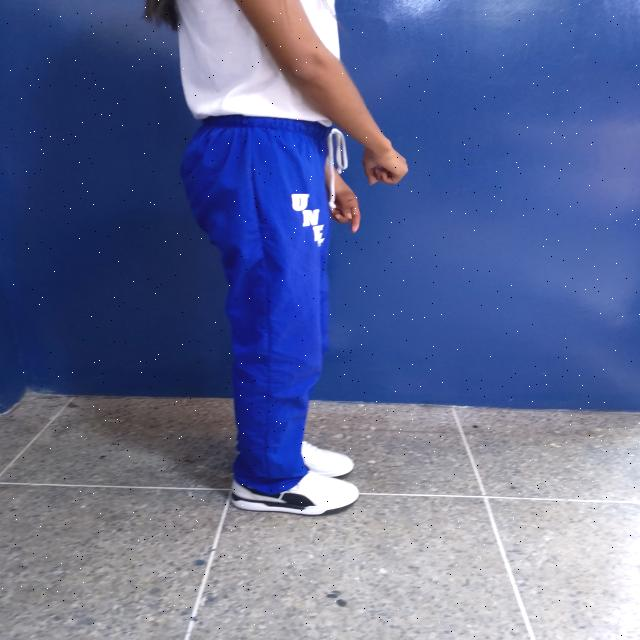uniforme_superior: (178, 113, 334, 496)
